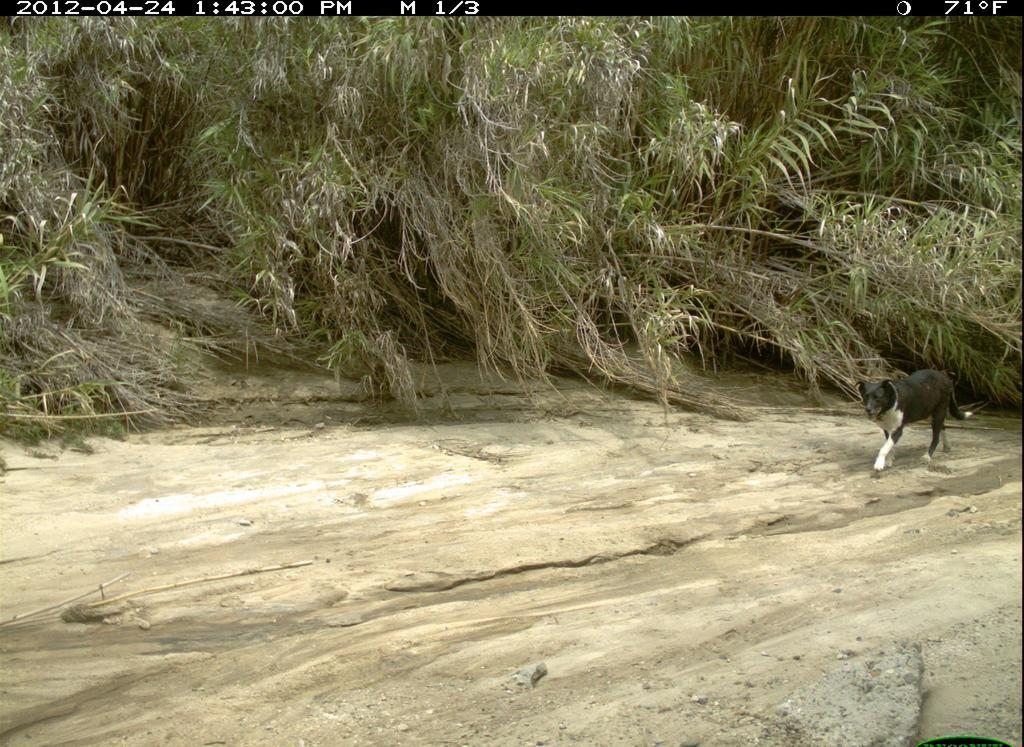dog: (852, 366, 977, 474)
